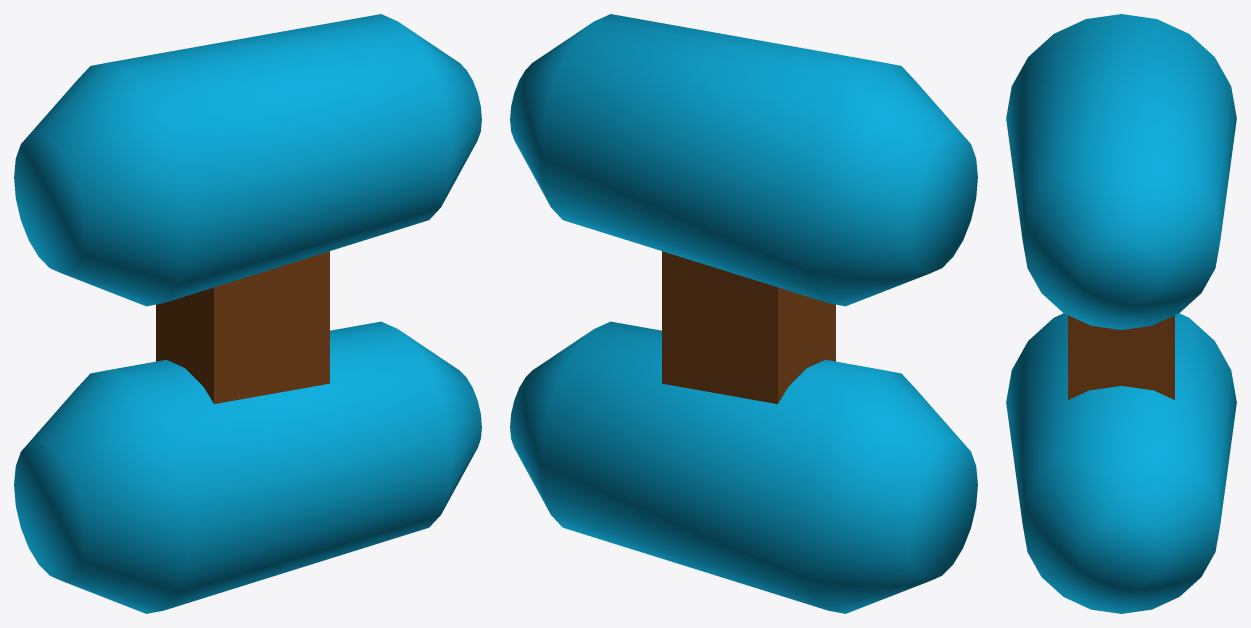
File: SM_VectorThrusters.obj
3 renders of one model, left to right at view 1: azimuth 30°, elevation 25°; view 2: azimuth 150°, elevation 25°; view 3: azimuth 270°, elevation 25°, orthographic. The views are drawn at different scales.
Visible parts, largest first — view 1: SM_VectorThrusters; view 2: SM_VectorThrusters; view 3: SM_VectorThrusters.
Part boxes in pixels (x1=…): SM_VectorThrusters: x1=14, y1=14, x2=481, y2=613; SM_VectorThrusters: x1=510, y1=14, x2=977, y2=613; SM_VectorThrusters: x1=1006, y1=14, x2=1236, y2=613.
Size of the model in its own units: 53 by 66 by 28.
